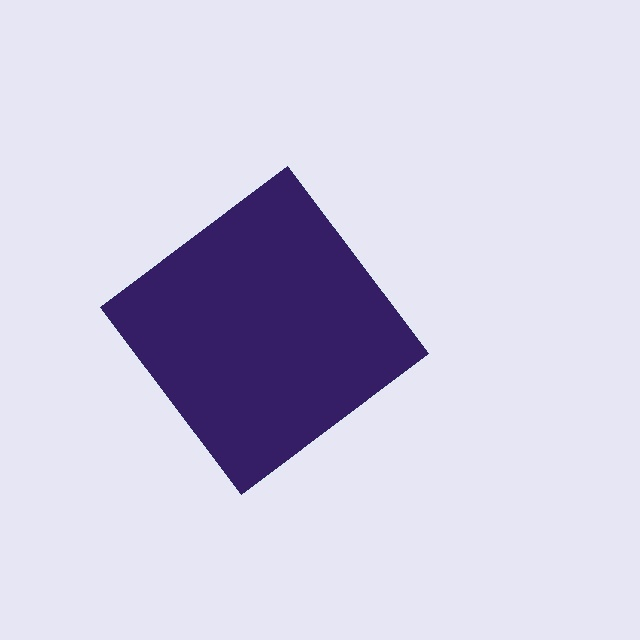square: (100, 166, 428, 494)
